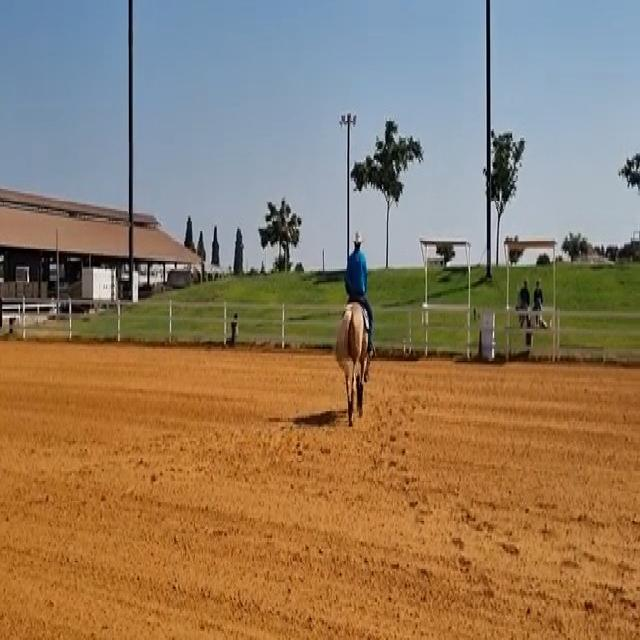horse: (334, 296, 370, 426)
